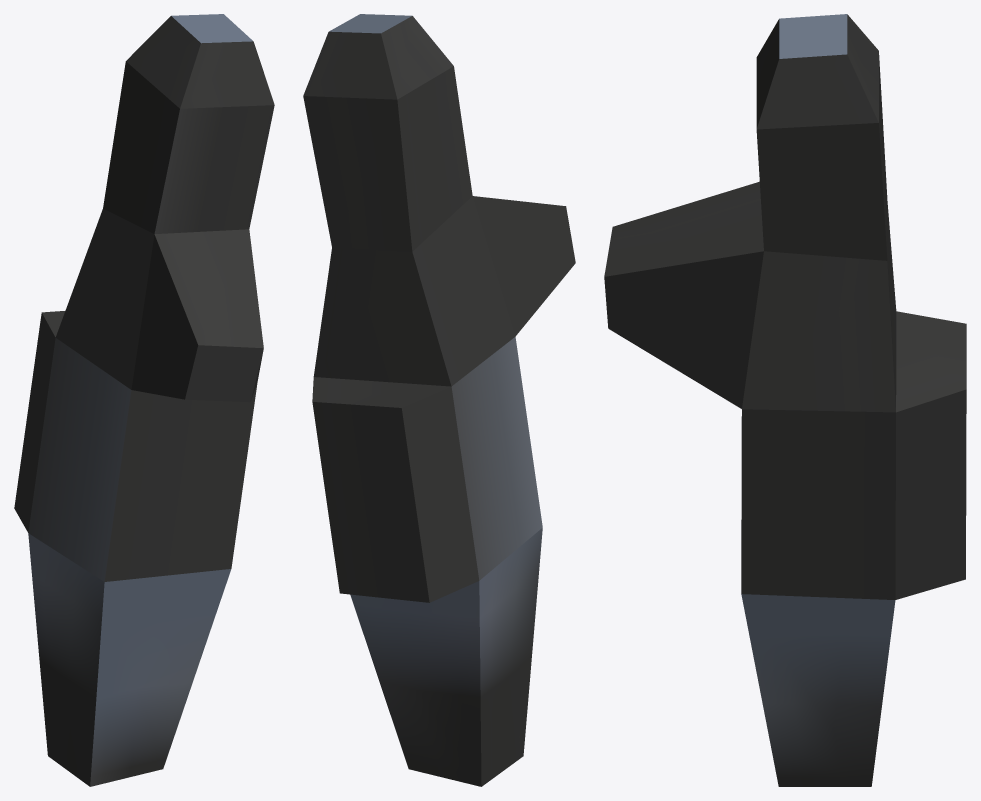
The model's file is Tree.010.fbx.
3 renders of one model, left to right at view 1: azimuth 30°, elevation 25°; view 2: azimuth 150°, elevation 25°; view 3: azimuth 270°, elevation 25°, orthographic. The views are drawn at different scales.
Parts seen in each view (by area): view 1: Tree.010; view 2: Tree.010; view 3: Tree.010.
Part boxes in pixels (x1=…): Tree.010: x1=14, y1=14, x2=274, y2=786; Tree.010: x1=303, y1=14, x2=575, y2=786; Tree.010: x1=604, y1=14, x2=966, y2=786.
Bounding box in the file's own units: 0.2874 × 1.07 × 0.4441.
